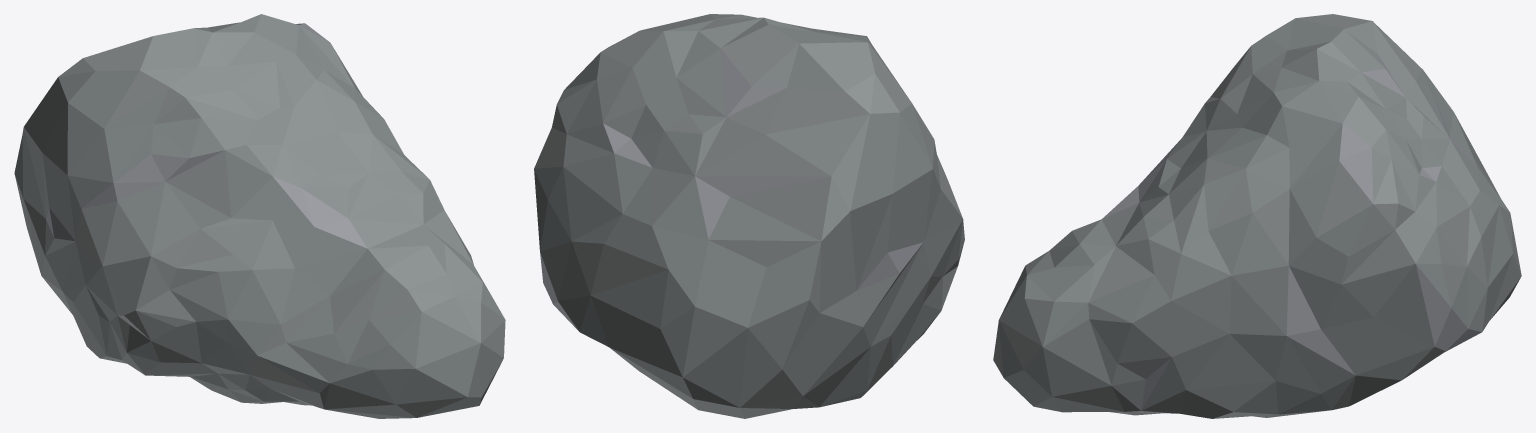
Rendered from mesh_rock_small_02.fbx.
3 views of the same model, side by side, from view 1: azimuth 30°, elevation 25°; view 2: azimuth 150°, elevation 25°; view 3: azimuth 270°, elevation 25° (orthographic). The views are drawn at different scales.
Visible parts, largest first — view 1: mesh_rock_small_02_LOD0; view 2: mesh_rock_small_02_LOD0; view 3: mesh_rock_small_02_LOD0.
Part boxes in pixels (bbox=[...]): mesh_rock_small_02_LOD0: bbox=[14, 14, 505, 418]; mesh_rock_small_02_LOD0: bbox=[534, 14, 964, 418]; mesh_rock_small_02_LOD0: bbox=[993, 14, 1521, 418].
Size of what is drawn, in the model's own units: 0.8026 by 0.816 by 1.17.
